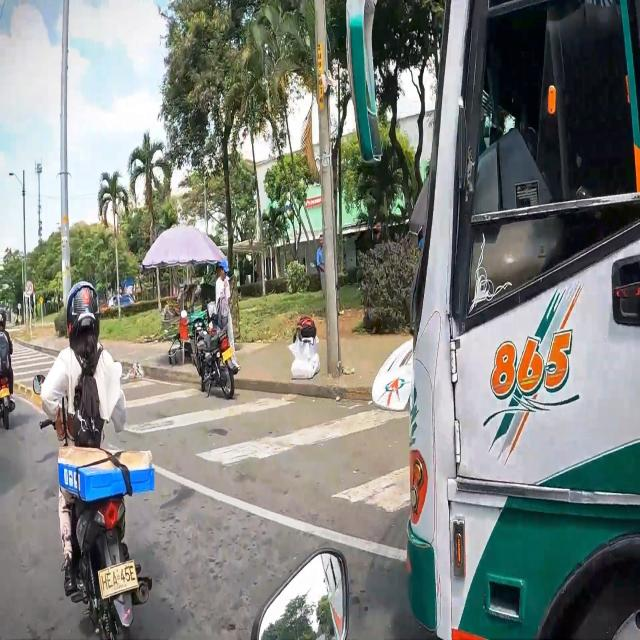license_plate: (97, 558, 139, 600)
